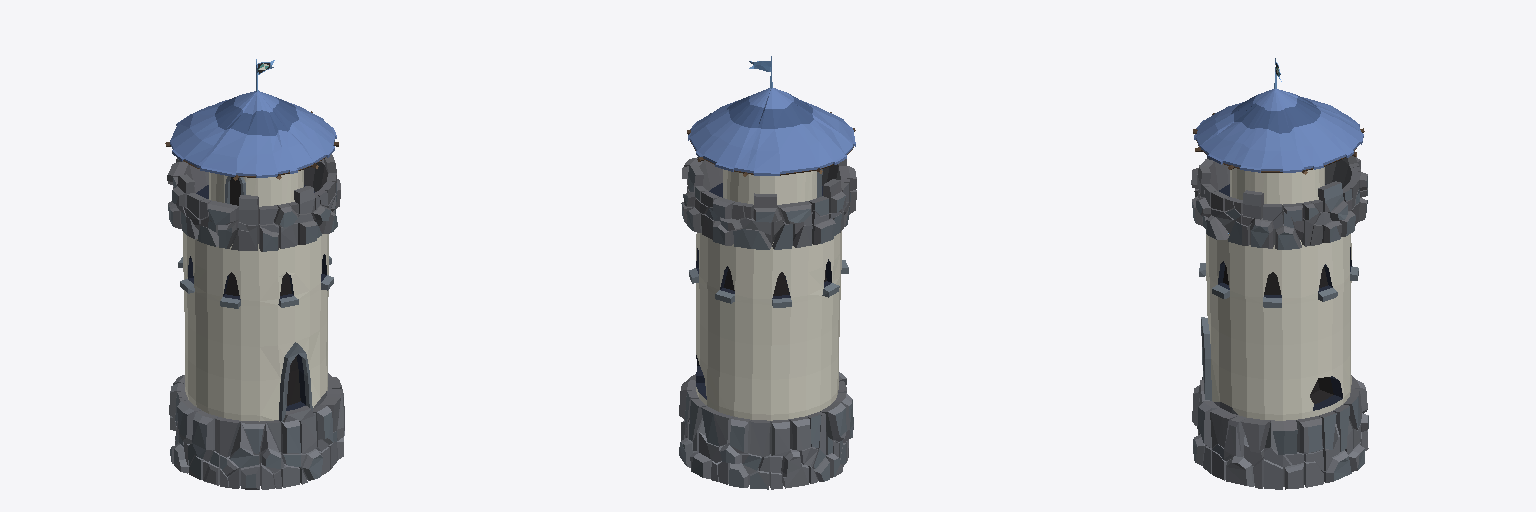
The picture shows the model from 3 angles: view 1: azimuth 30°, elevation 25°; view 2: azimuth 150°, elevation 25°; view 3: azimuth 270°, elevation 25°; orthographic projection.
Visible parts, largest first — view 1: Castle_asset_CUCylinder.001; view 2: Castle_asset_CUCylinder.001; view 3: Castle_asset_CUCylinder.001.
Boxes of the visible parts, <box> form: Castle_asset_CUCylinder.001: <box>165,59,344,489</box>; Castle_asset_CUCylinder.001: <box>679,56,856,489</box>; Castle_asset_CUCylinder.001: <box>1191,58,1368,489</box>.
Size of the model in its own units: 5.19 by 12.77 by 5.12.
Materials: 1 (1 with a texture image).